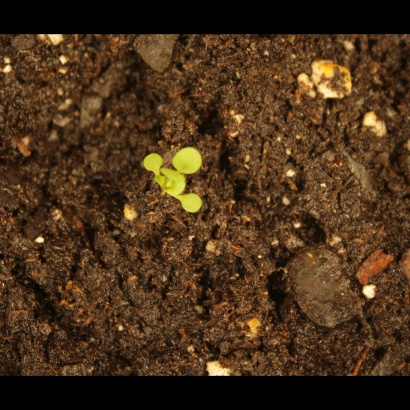leaf: (155, 168, 190, 203), (171, 145, 206, 177), (141, 150, 165, 176), (181, 192, 204, 215)
